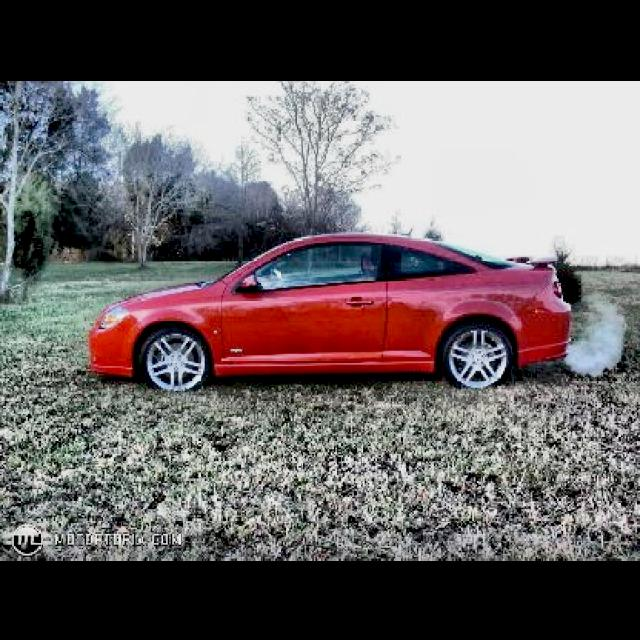red: (73, 216, 577, 432)
